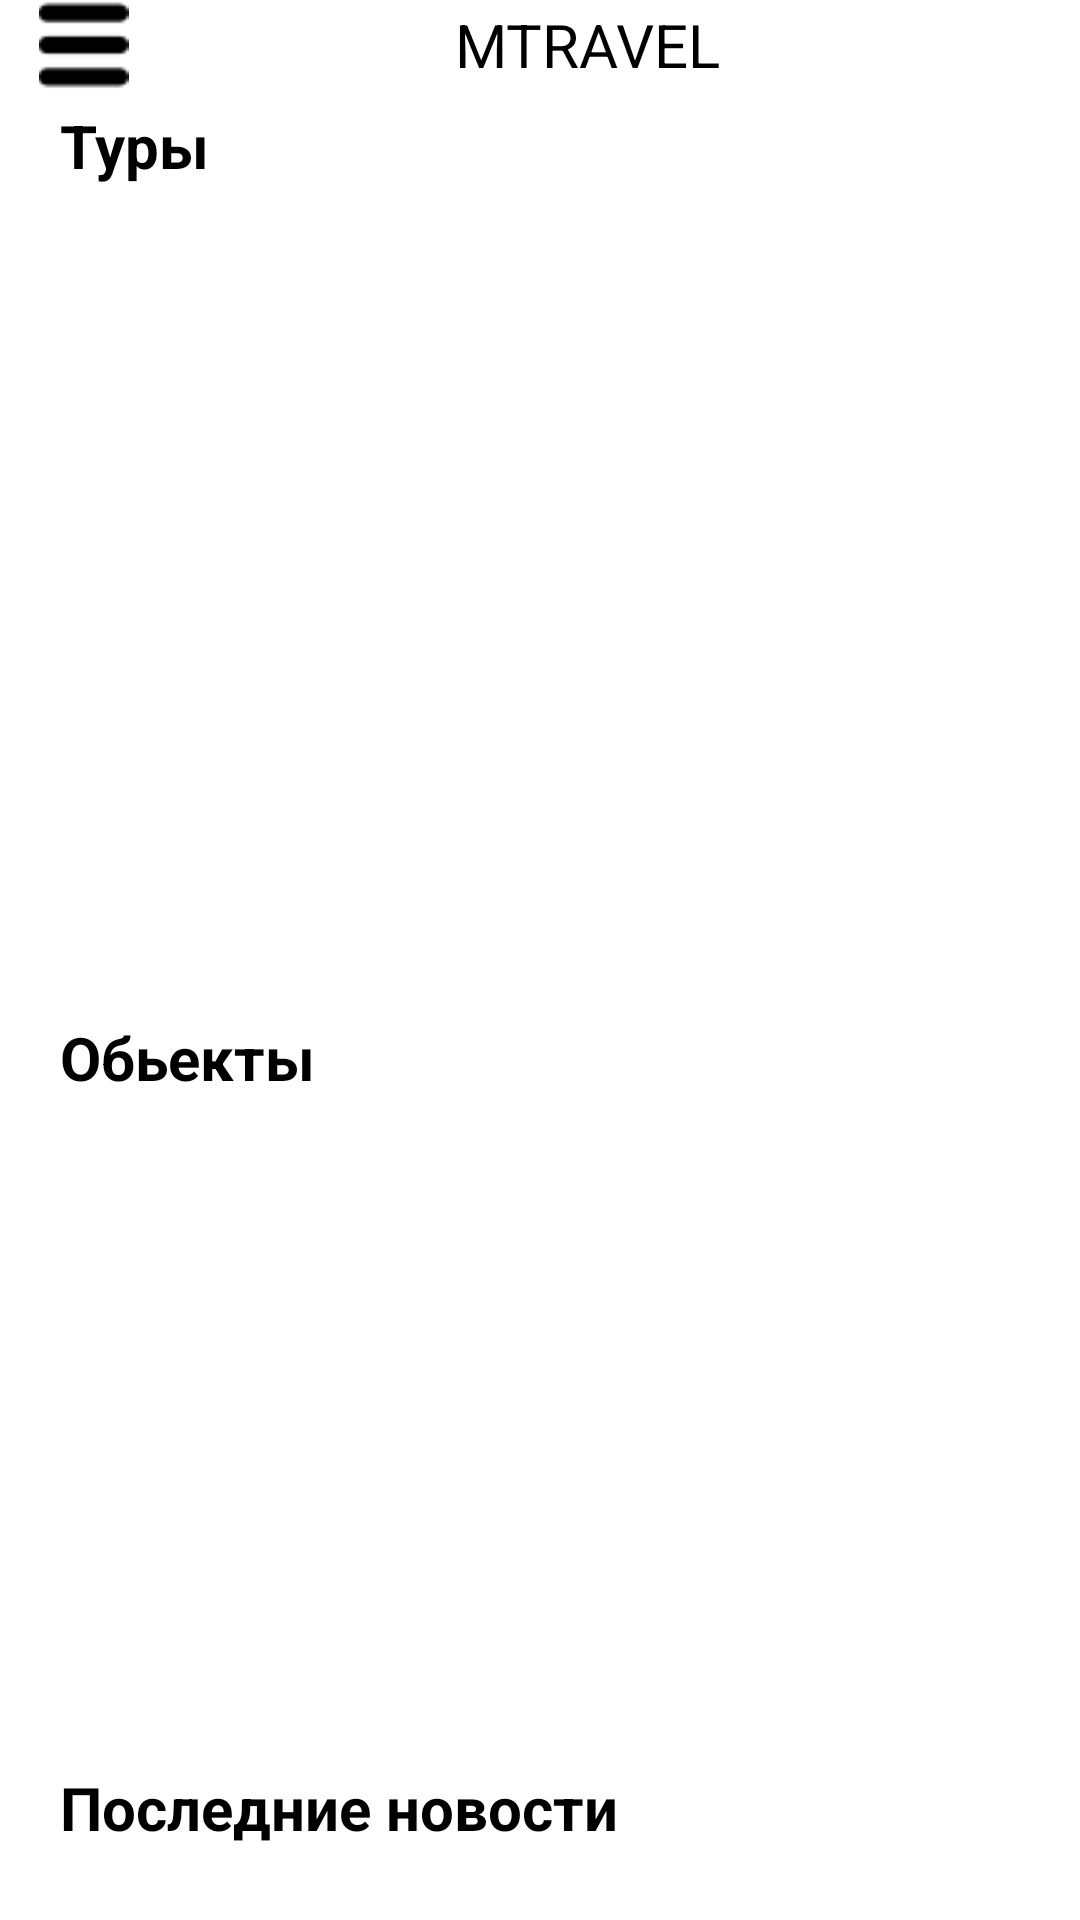

Point at icon controls on the screen. Image size 1080px×1920px, points as (x,y).
menu: (84,45)
